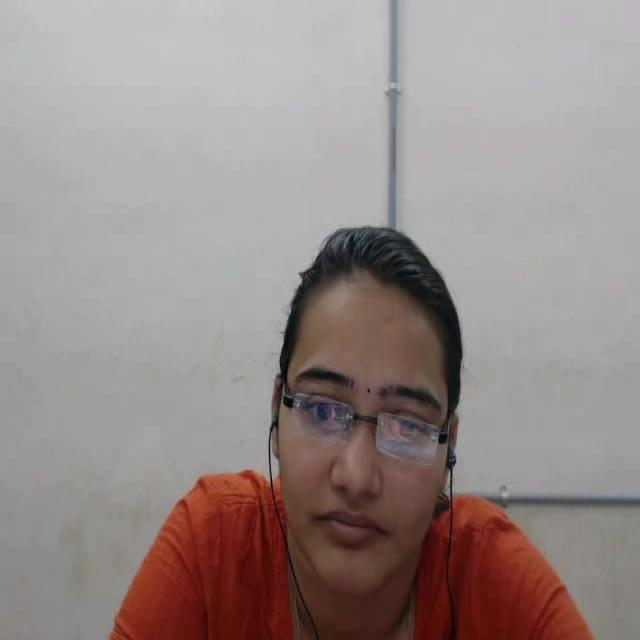Engaged: (236, 175, 498, 640)
